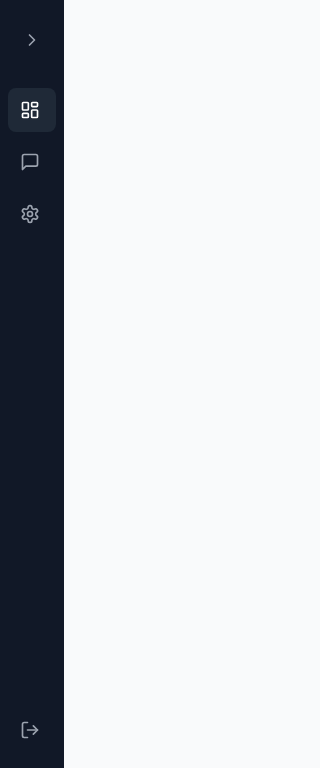
Test: Layout › deve exibir role de agente corretamente
Click the 1st button: (32, 40) x1=8 y1=16 x2=56 y2=64
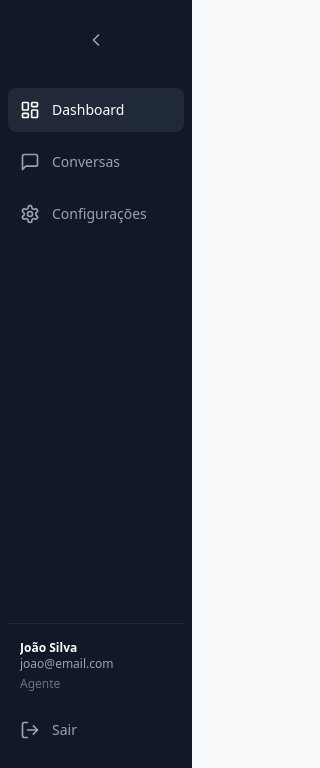
Check: the text "Agente" is shown, box x1=20 y1=675 x2=60 y2=692
